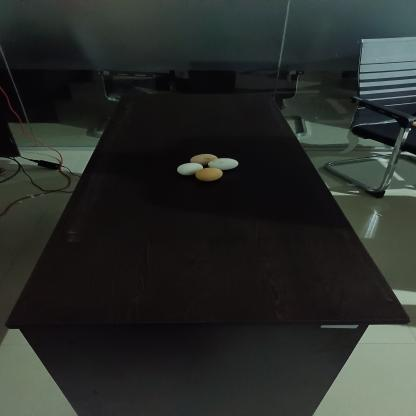egg: (192, 166, 226, 183), (189, 152, 221, 168), (206, 157, 239, 171), (176, 161, 204, 176)
